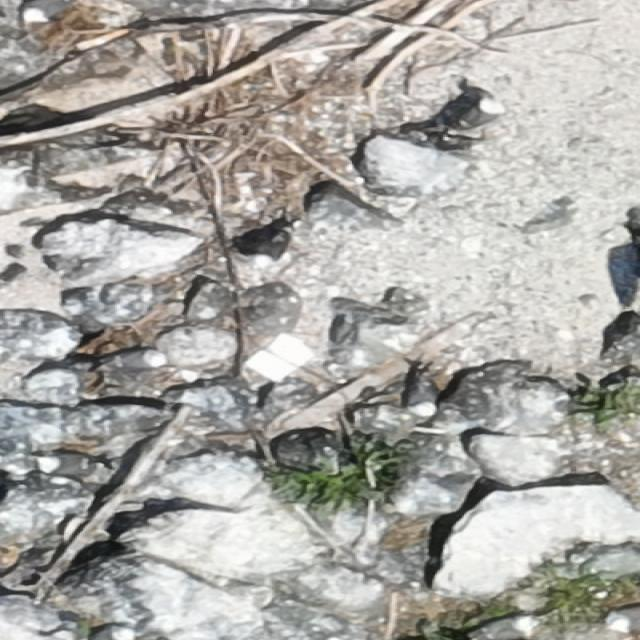umineko: (250, 228, 294, 274), (454, 96, 512, 130), (98, 350, 172, 375), (408, 371, 446, 419), (474, 616, 548, 638), (34, 455, 95, 475), (22, 0, 70, 25), (602, 605, 634, 635), (100, 625, 142, 639)
